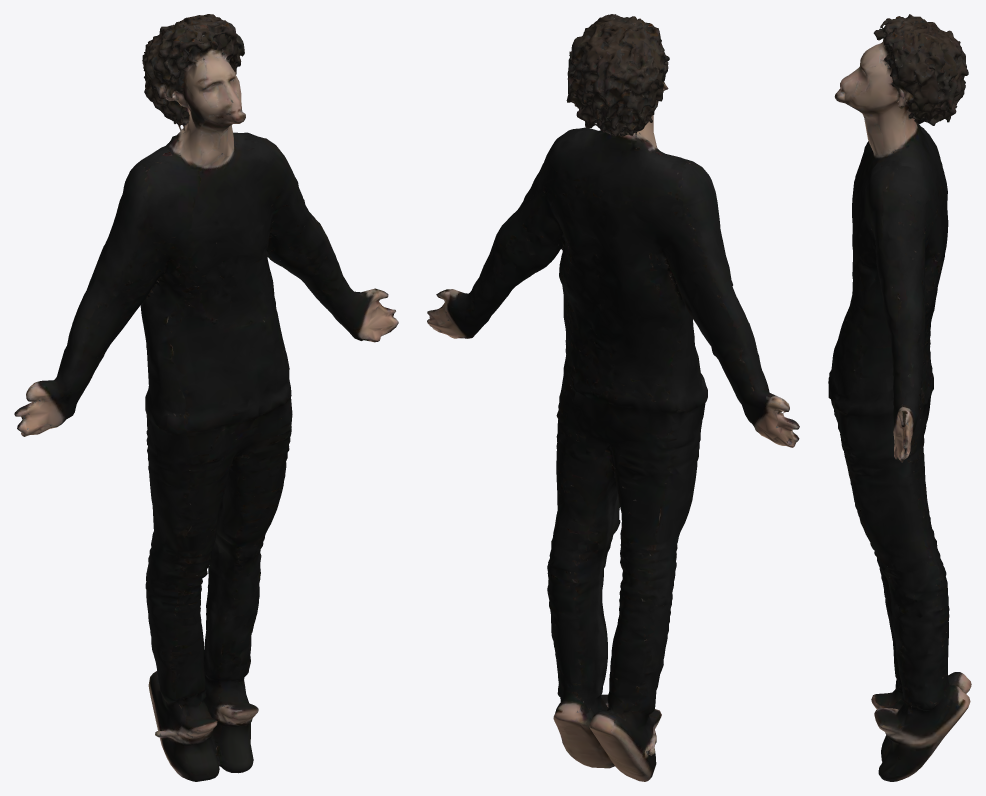
Rendered from redd-figure.glb.
3 renders of one model, left to right at view 1: azimuth 30°, elevation 25°; view 2: azimuth 150°, elevation 25°; view 3: azimuth 270°, elevation 25°, orthographic. The views are drawn at different scales.
Size of the model in its own units: 1.05 by 2 by 0.35.
Materials: 1 (1 with a texture image).
